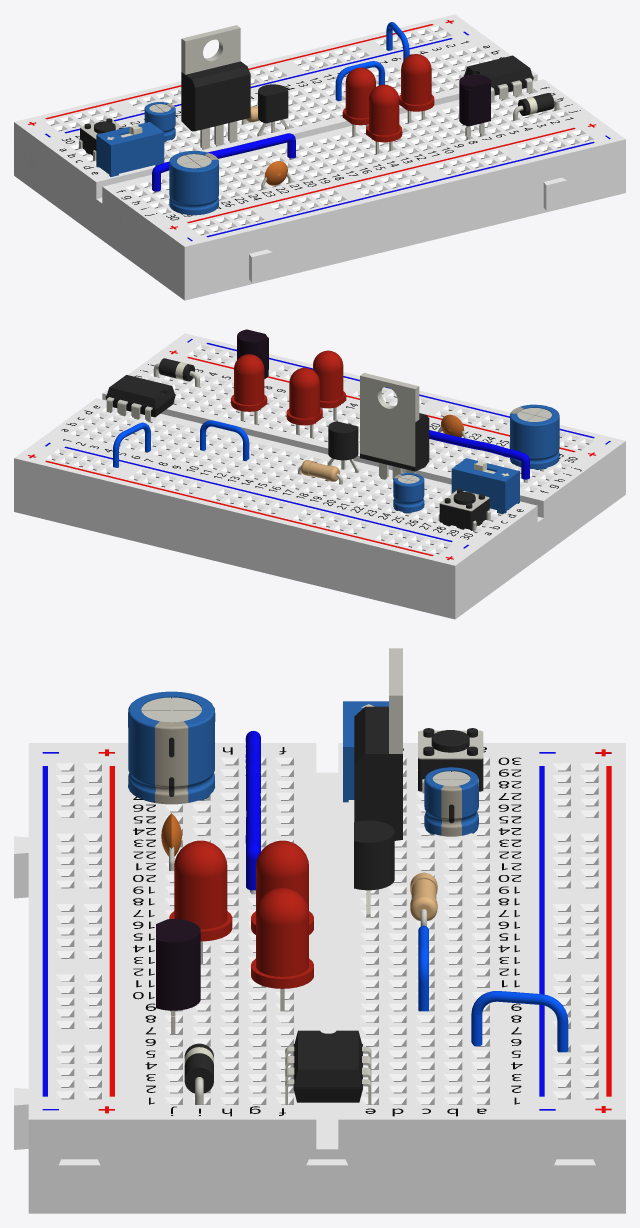
The picture shows the model from 3 angles, top to bottom: view 1: azimuth 30°, elevation 25°; view 2: azimuth 150°, elevation 25°; view 3: azimuth 270°, elevation 25°; orthographic projection. The views are drawn at different scales.
Visible parts, largest first — view 1: HalfBreadboard001, TO-220-3_Vertical, HalfBreadboard, CP_Radial_D80mm_P380mm, SW_DIP_SPSTx01_Slide_978x472mm_W762mm_P254mm, DIP-8_W7.62mm, LED_D5.0mm, LED_D5.0mm004, Osram_SFH205, LED_D5.0mm002, TO-92_Inline_Wide, wire_25mm_Blue (+6 smaller); view 2: HalfBreadboard001, TO-220-3_Vertical, HalfBreadboard, CP_Radial_D80mm_P380mm, SW_DIP_SPSTx01_Slide_978x472mm_W762mm_P254mm, DIP-8_W7.62mm, LED_D5.0mm002, LED_D5.0mm, SW_PUSH_6mm_h4.3mm, LED_D5.0mm004, TO-92_Inline_Wide, CP_Radial_D50mm_P250mm (+7 smaller); view 3: HalfBreadboard001, CP_Radial_D80mm_P380mm, TO-220-3_Vertical, DIP-8_W7.62mm, HalfBreadboard, LED_D5.0mm, LED_D5.0mm004, Osram_SFH205, CP_Radial_D50mm_P250mm, SW_PUSH_6mm_h4.3mm, TO-92_Inline_Wide, LED_D5.0mm002 (+7 smaller).
Boxes of the visible parts, <box> form: HalfBreadboard001: <box>14,14,625,294</box>; TO-220-3_Vertical: <box>181,25,250,149</box>; HalfBreadboard: <box>14,170,625,300</box>; CP_Radial_D80mm_P380mm: <box>169,150,218,215</box>; SW_DIP_SPSTx01_Slide_978x472mm_W762mm_P254mm: <box>96,121,164,176</box>; DIP-8_W7.62mm: <box>463,55,533,103</box>; LED_D5.0mm: <box>399,54,434,123</box>; LED_D5.0mm004: <box>366,84,402,154</box>; Osram_SFH205: <box>459,74,490,140</box>; LED_D5.0mm002: <box>342,67,375,136</box>; TO-92_Inline_Wide: <box>257,84,288,136</box>; wire_25mm_Blue: <box>152,133,295,192</box>; HalfBreadboard001: <box>14,333,625,613</box>; TO-220-3_Vertical: <box>360,373,429,479</box>; HalfBreadboard: <box>14,489,625,619</box>; CP_Radial_D80mm_P380mm: <box>509,404,559,469</box>; SW_DIP_SPSTx01_Slide_978x472mm_W762mm_P254mm: <box>451,458,519,514</box>; DIP-8_W7.62mm: <box>105,375,175,422</box>; LED_D5.0mm002: <box>286,367,322,438</box>; LED_D5.0mm: <box>231,354,267,424</box>; SW_PUSH_6mm_h4.3mm: <box>438,489,490,532</box>; LED_D5.0mm004: <box>313,350,346,420</box>; TO-92_Inline_Wide: <box>327,421,358,472</box>; CP_Radial_D50mm_P250mm: <box>393,473,424,513</box>; HalfBreadboard001: <box>14,743,625,1209</box>; CP_Radial_D80mm_P380mm: <box>128,691,215,804</box>; TO-220-3_Vertical: <box>354,648,402,840</box>; DIP-8_W7.62mm: <box>285,1030,371,1104</box>; HalfBreadboard: <box>28,1203,625,1213</box>; LED_D5.0mm: <box>251,888,313,1011</box>; LED_D5.0mm004: <box>169,840,232,964</box>; Osram_SFH205: <box>156,919,200,1034</box>; CP_Radial_D50mm_P250mm: <box>424,767,478,836</box>; SW_PUSH_6mm_h4.3mm: <box>418,728,483,793</box>; TO-92_Inline_Wide: <box>354,820,394,917</box>; LED_D5.0mm002: <box>251,840,313,934</box>.
Bounding box in the file's own units: 8.3 × 2.85 × 5.61.
